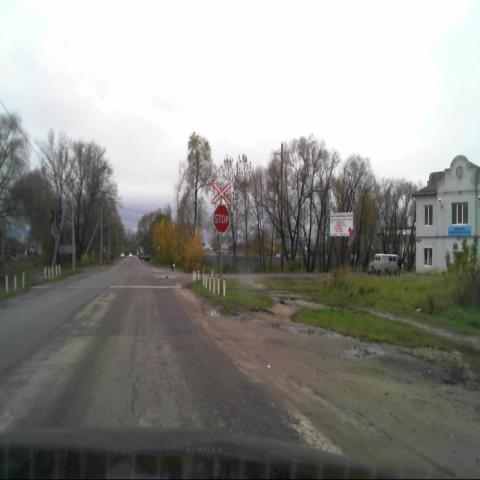2_5: (212, 205, 228, 234)
